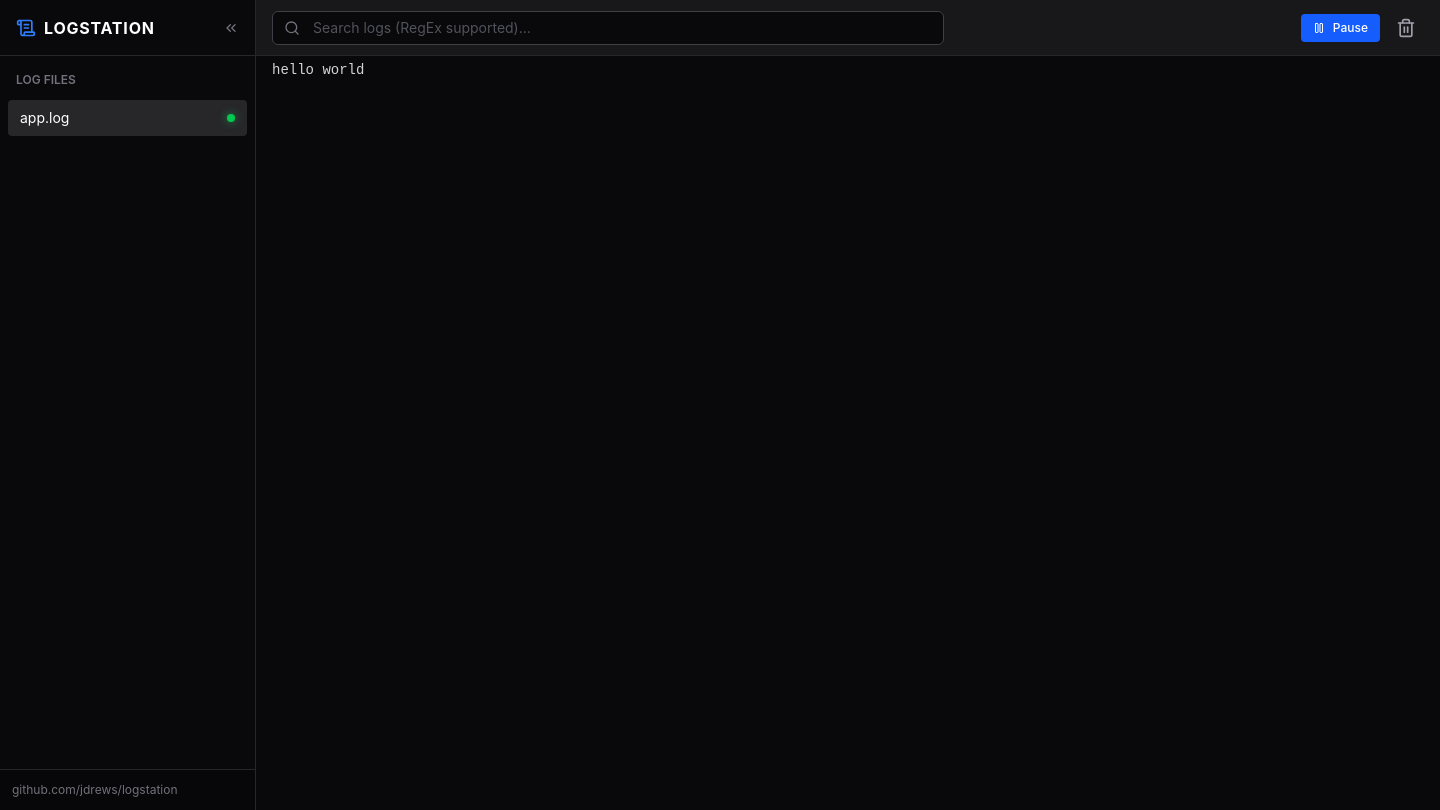
App › clear buffer empties log lines but keeps the file list
Expected: the text "hello world" is shown, [272,62,364,78]
Click the button titled "Clear Buffer". click: (1406, 28)
box: [1388,10,1424,46]
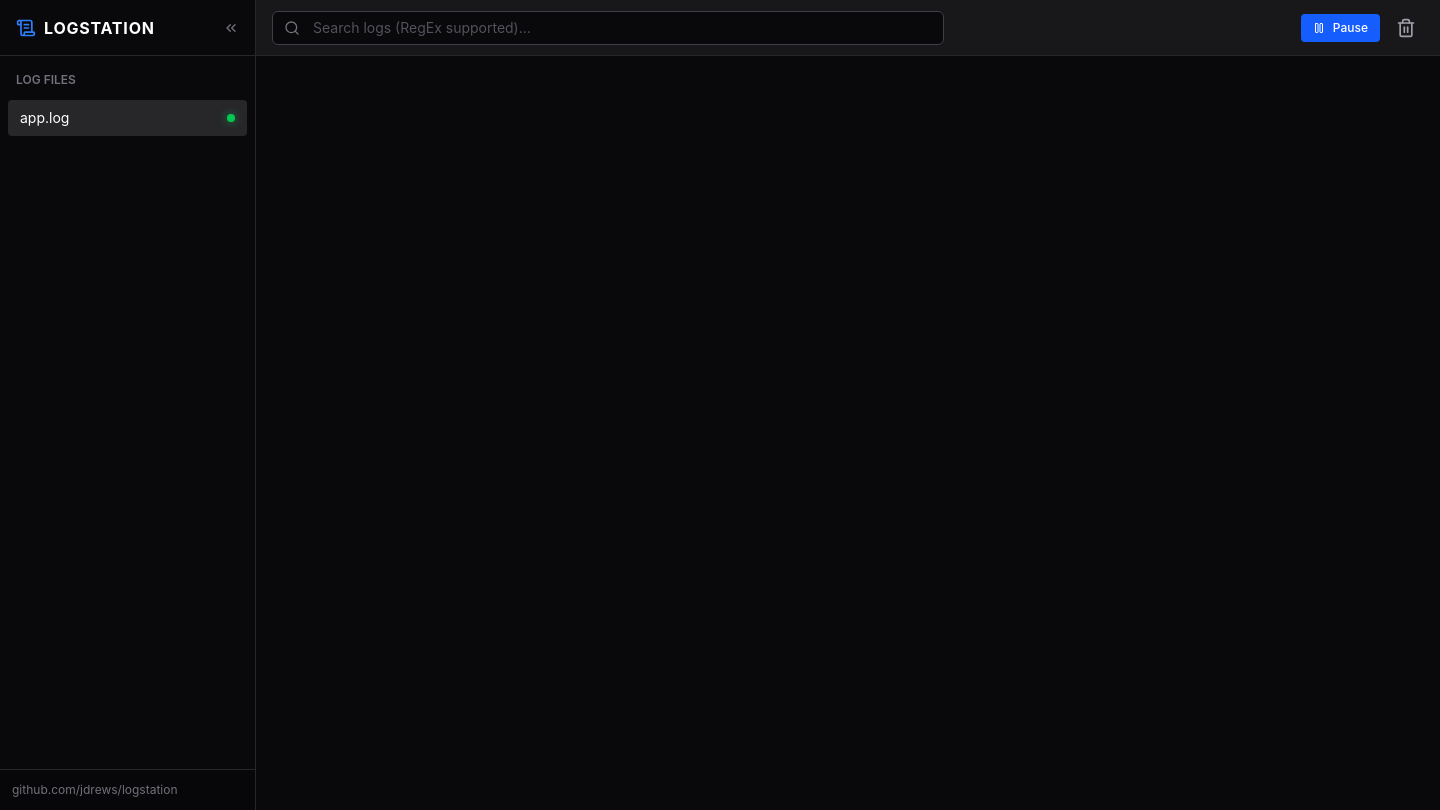
Now the text "hello world" is gone
